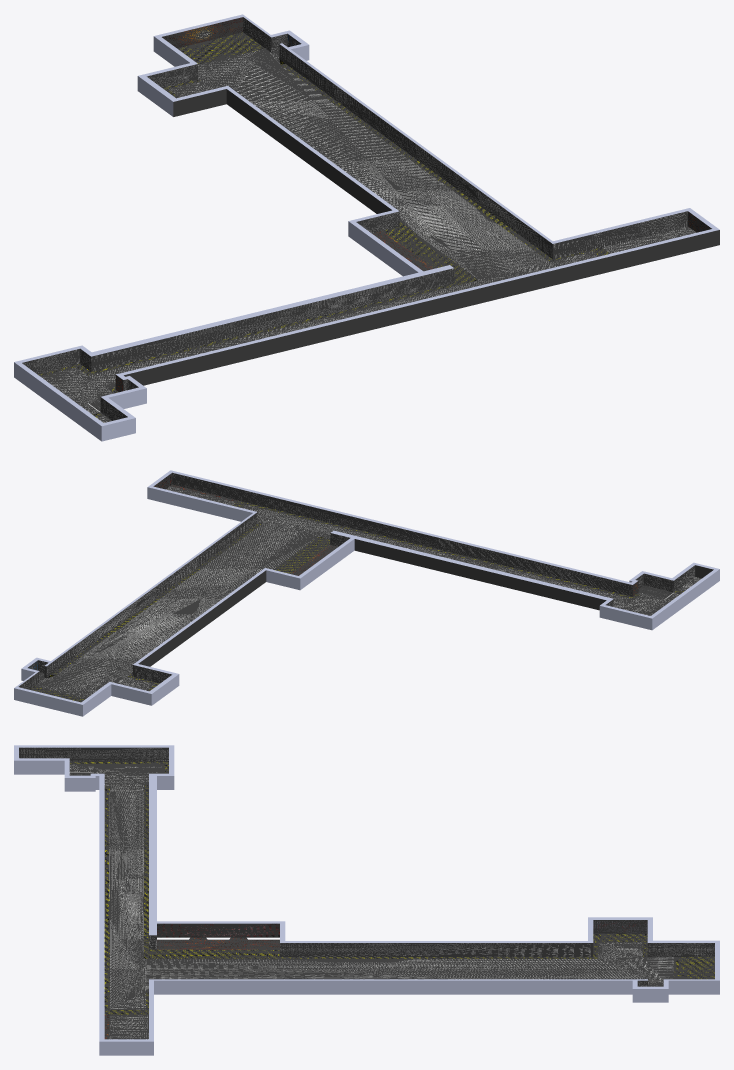
Rendered from m01_race_field.dae.
3 views of the same model, one above another, from view 1: azimuth 30°, elevation 25°; view 2: azimuth 150°, elevation 25°; view 3: azimuth 270°, elevation 25° (orthographic). The views are drawn at different scales.
Parts seen in each view (by area): view 1: skp8E88 (×16); view 2: skp8E88 (×10); view 3: skp8E88 (×14).
Boxes of the visible parts, x1=… form: skp8E88 (×16): x1=14, y1=14, x2=719, y2=441; skp8E88 (×10): x1=14, y1=470, x2=719, y2=716; skp8E88 (×14): x1=14, y1=745, x2=719, y2=1055.
Size of the model in its own units: 1613 by 1625 by 35.47.
24 materials, 20 textured.
